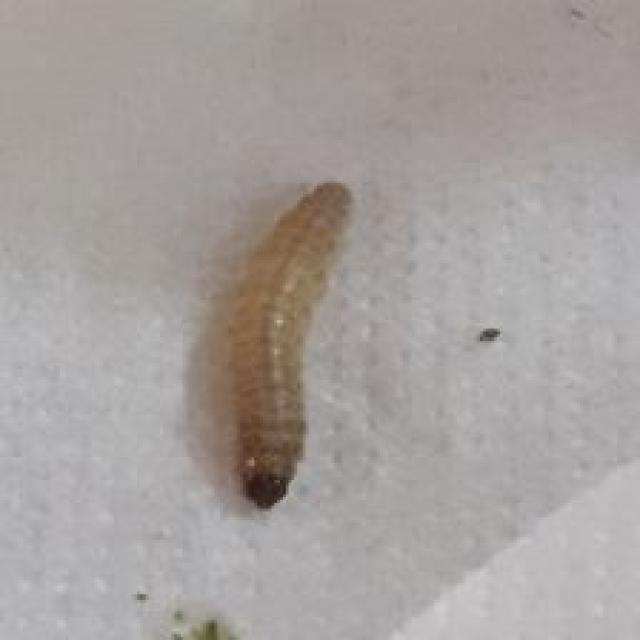white mucus: (192, 161, 394, 531)
